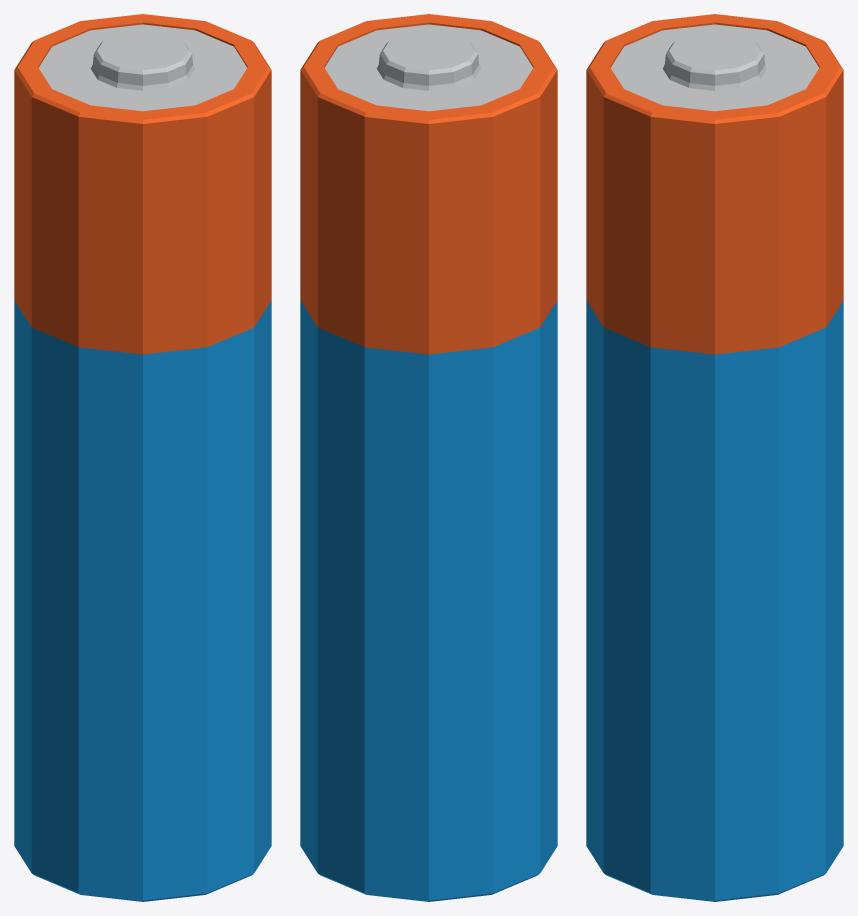
The model's file is Battery-AA-1.fbx.
3 renders of one model, left to right at view 1: azimuth 30°, elevation 25°; view 2: azimuth 150°, elevation 25°; view 3: azimuth 270°, elevation 25°, orthographic.
Parts seen in each view (by area): view 1: BatteryAA1; view 2: BatteryAA1; view 3: BatteryAA1.
Part boxes in pixels (x1,y1,x2,y2): BatteryAA1: (14, 14, 271, 901); BatteryAA1: (300, 14, 557, 901); BatteryAA1: (586, 14, 843, 901).
Size of the model in its own units: 0.014 by 0.0485 by 0.014.
